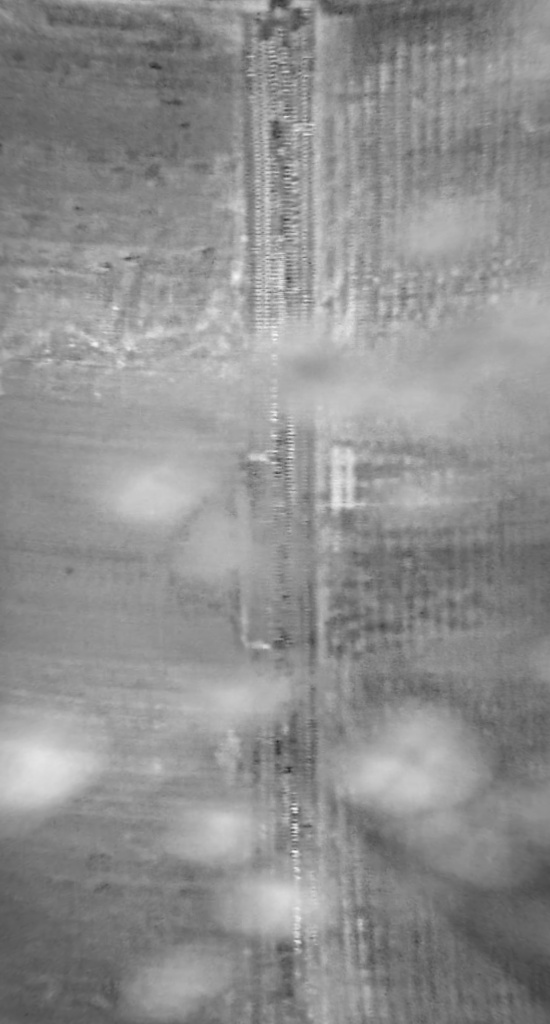splice: (235, 1, 322, 1023)
